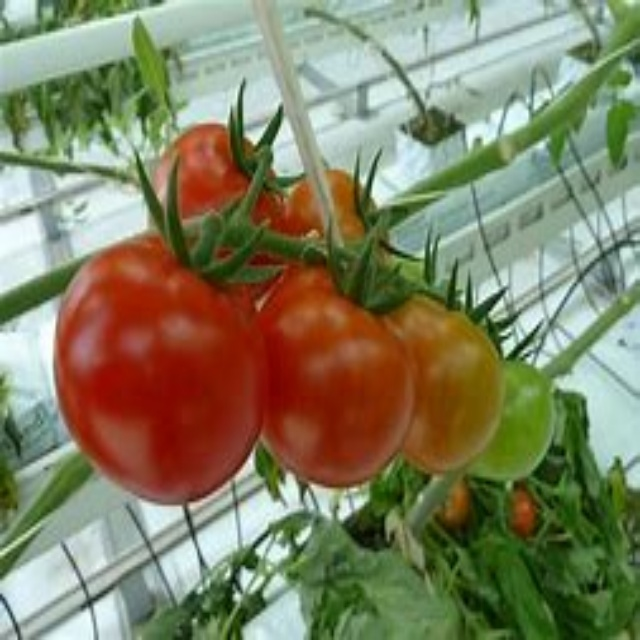tomato: (54, 242, 261, 498), (241, 282, 419, 490), (380, 296, 505, 475), (157, 121, 286, 257), (457, 355, 566, 495), (277, 166, 389, 276)
